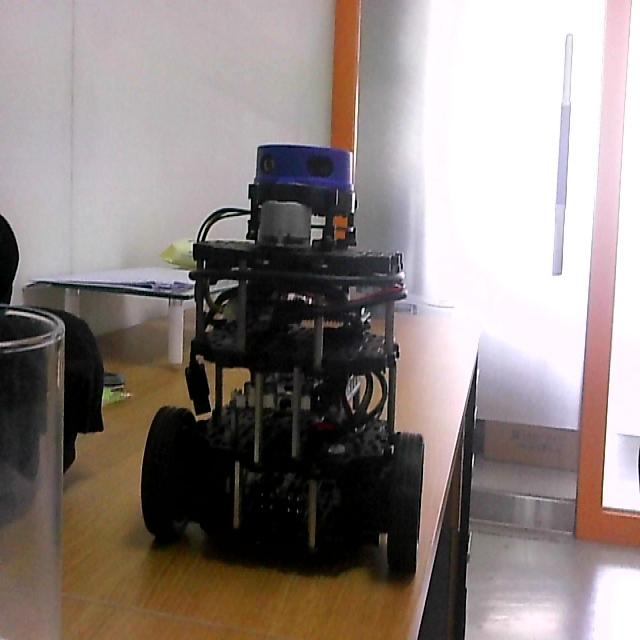turtle: (138, 142, 428, 585)
